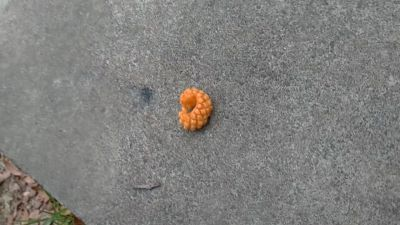eggs: (176, 86, 213, 131)
